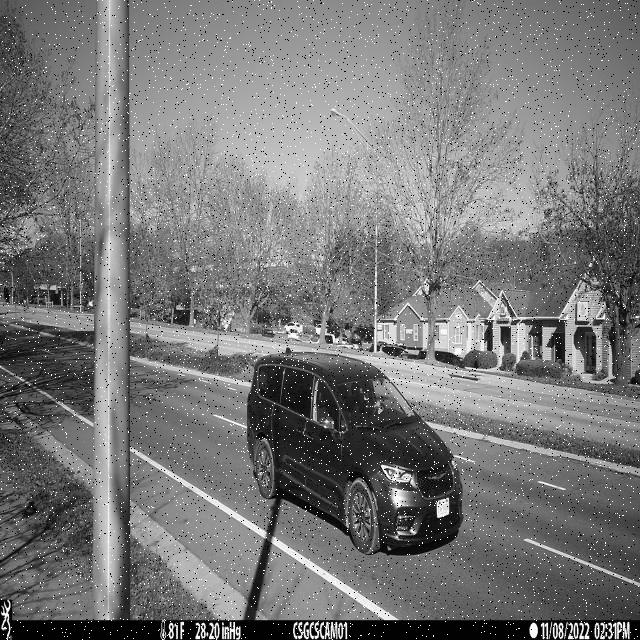Van: (247, 348, 465, 556)
